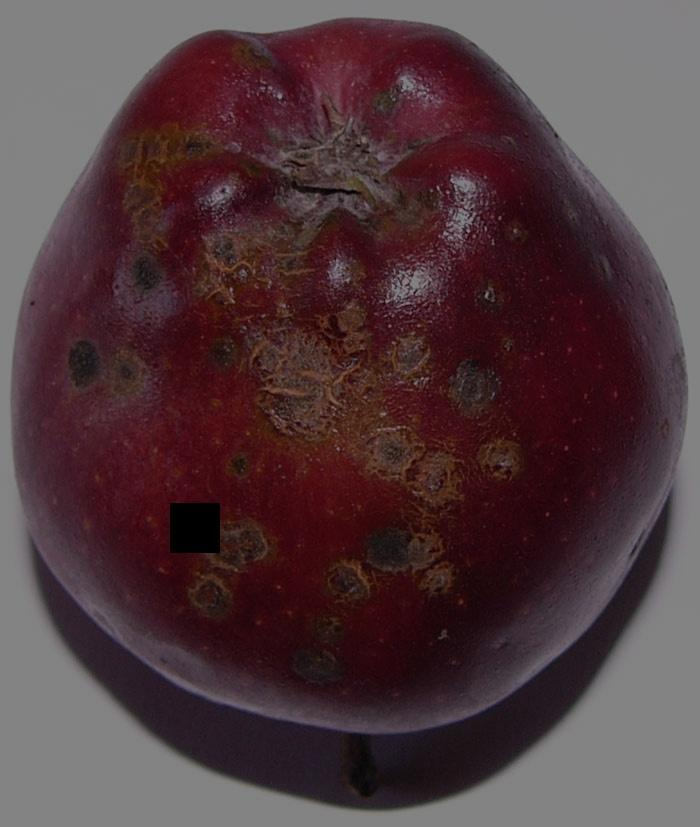rotten apple: (7, 18, 687, 755)
